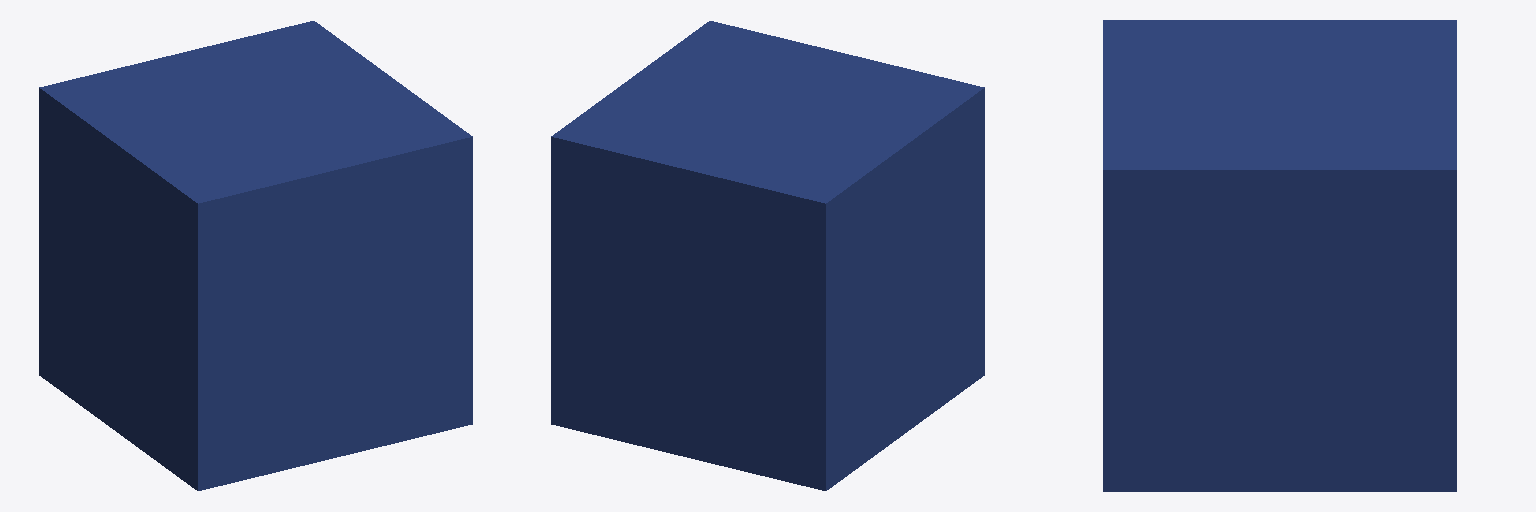
URDF robot description (rect):
<?xml version="0.0" ?>
<robot name="rect">
  <link name="rect">
    <contact>
	  <!--<stiffness value="10000.0"/>-->
	  <!--<damping value="10.0"/>-->
	  <spinning_friction value="0.3"/>
	  <lateral_friction value="0.9"/>
    </contact>
    <inertial>
      <origin xyz="0 0 0"/>
      <mass value="0.1" />
      <inertia  ixx="1.0" ixy="0.0"  ixz="0.0"  iyy="1.0"  iyz="0.0"  izz="1.0" />
    </inertial>
    <visual>
      <origin xyz="0 0 0"/>
      <geometry>
        <box size="0.061 0.061 0.061"/>
      </geometry>
      <material name="viridis_blue">
	<color rgba="0.23 0.32 0.55 1.0" />
      </material>
    </visual>
    <collision>
      <origin xyz="0 0 0"/>
      <geometry>
        <box size="0.061 0.061 0.061"/>
      </geometry>
    </collision>
  </link>
</robot>

--- Facts derived from the render (not from the file) ---
The picture shows the robot from 3 angles, left to right: view 1: azimuth 30°, elevation 25°; view 2: azimuth 150°, elevation 25°; view 3: azimuth 270°, elevation 25°; orthographic projection.
Model rect with 1 links and 0 joints (none), rooted at rect, posed all joints at 0.
Links seen in each view (by area): view 1: rect; view 2: rect; view 3: rect.
Boxes of the visible links, <box> form: rect: <box>39,21,472,490</box>; rect: <box>551,21,984,490</box>; rect: <box>1103,20,1456,491</box>.
Bounding box of the posed robot: 0.061 × 0.061 × 0.061 m (x, y, z).
Geometry: primitives only (box / cylinder / sphere), no mesh files.